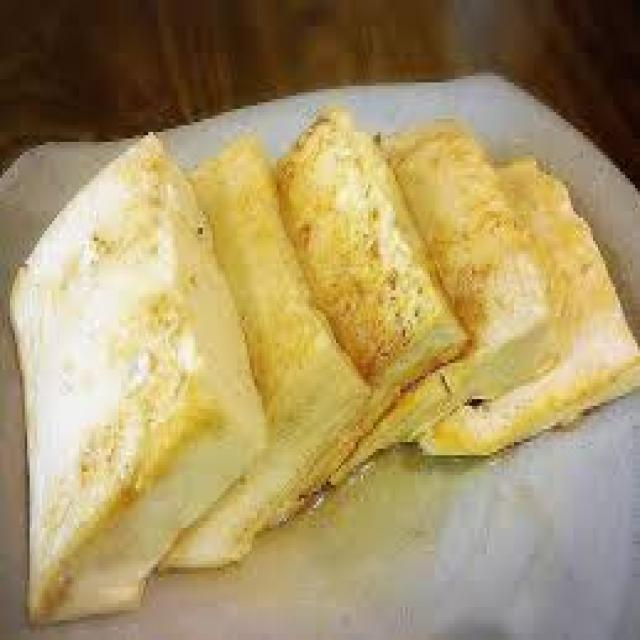tofu: (52, 72, 640, 445), (0, 138, 286, 624)
